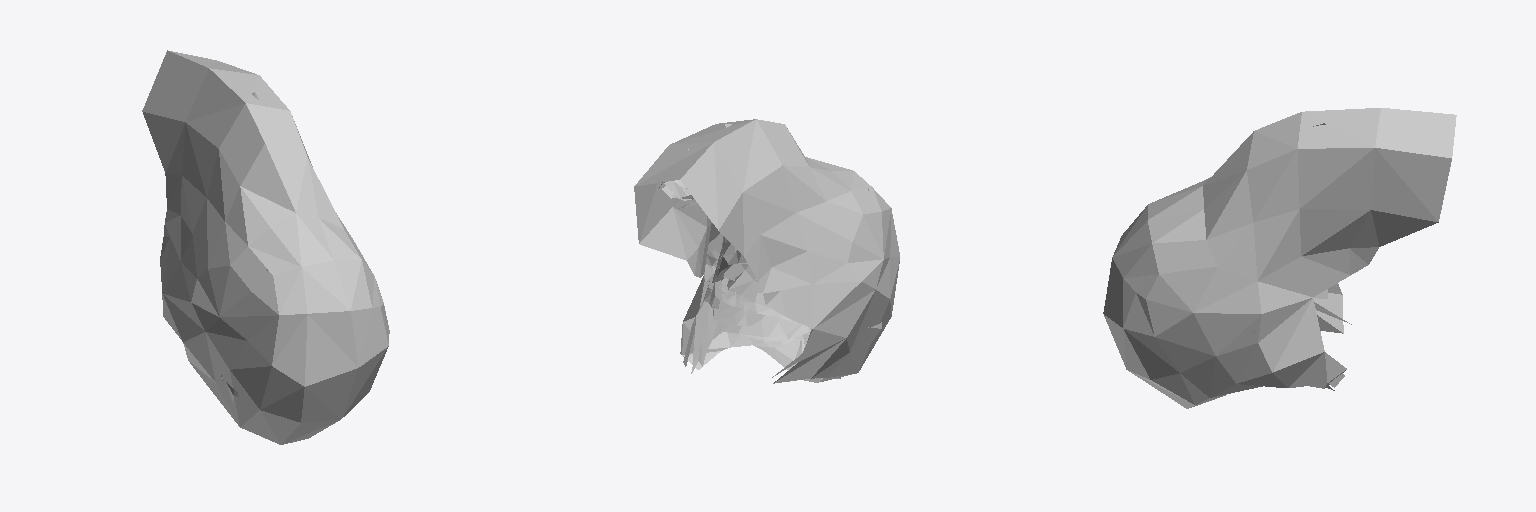
The model's file is hair_002_r.obj.
The picture shows the model from 3 angles: view 1: azimuth 30°, elevation 25°; view 2: azimuth 150°, elevation 25°; view 3: azimuth 270°, elevation 25°; orthographic projection.
Visible parts, largest first — view 1: hair_002_r_high_2; view 2: hair_002_r_high_2, hair_002_r_high_1, hair_002_r_med_1, hair_002_r_low_1; view 3: hair_002_r_high_2.
Part boxes in pixels (left/top/right/bottom): hair_002_r_high_2: left=142, top=50, right=389, bottom=444; hair_002_r_high_2: left=634, top=119, right=899, bottom=383; hair_002_r_high_1: left=659, top=124, right=868, bottom=377; hair_002_r_med_1: left=664, top=181, right=868, bottom=378; hair_002_r_low_1: left=678, top=185, right=881, bottom=373; hair_002_r_high_2: left=1103, top=108, right=1456, bottom=408.
Size of the model in its own units: 0.1992 by 0.3604 by 0.3848.